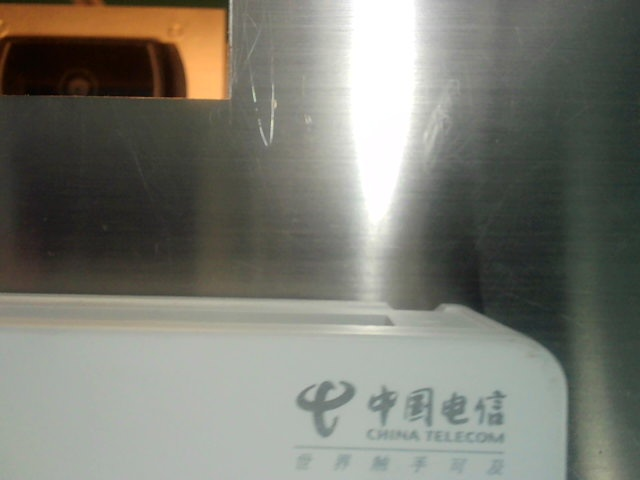AB_ChinaTelecom: (285, 371, 517, 479)
